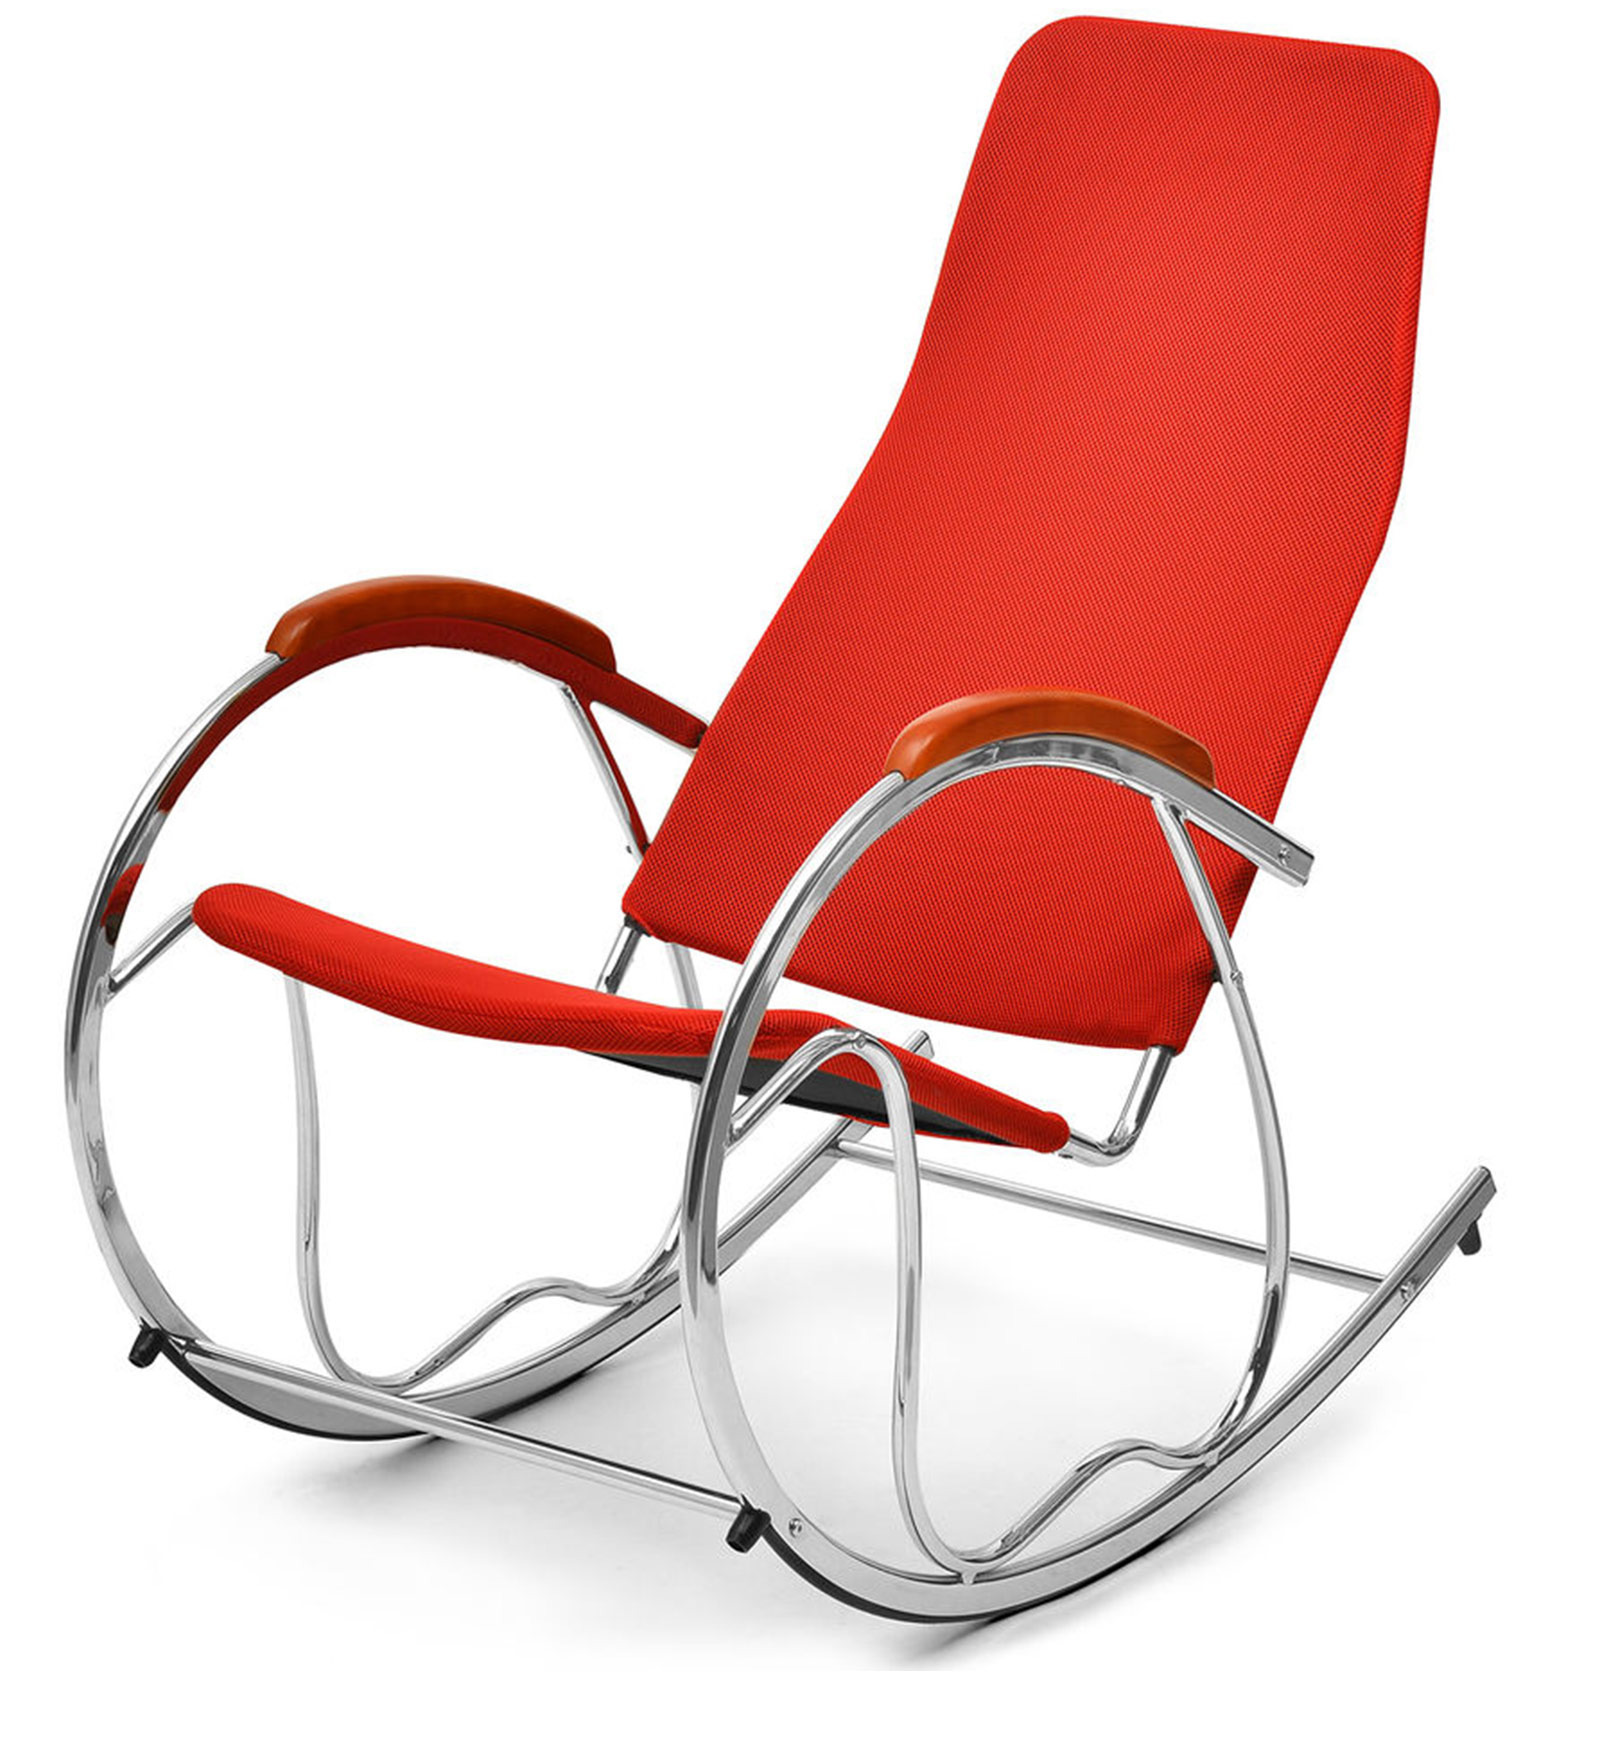Dylan Rocking Chair in Red Colour by Nilkamal: (34, 8, 1525, 1680)
